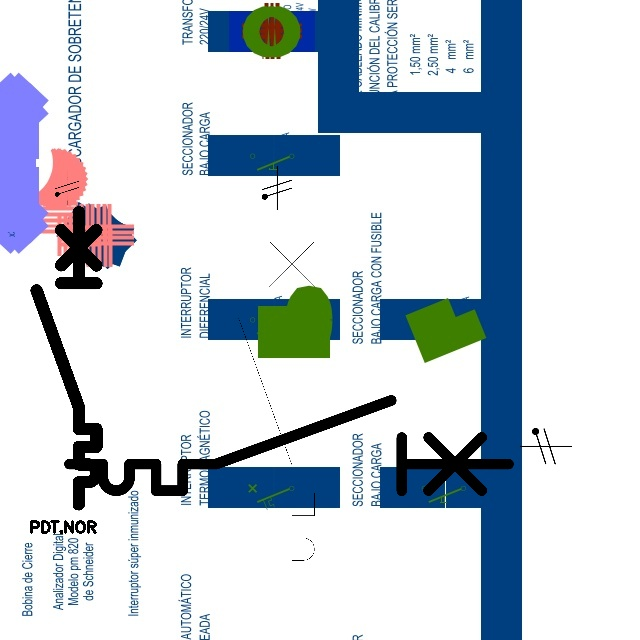interruptor_termomagnetico: (58, 389, 519, 502), (229, 209, 324, 597), (29, 204, 104, 511)
